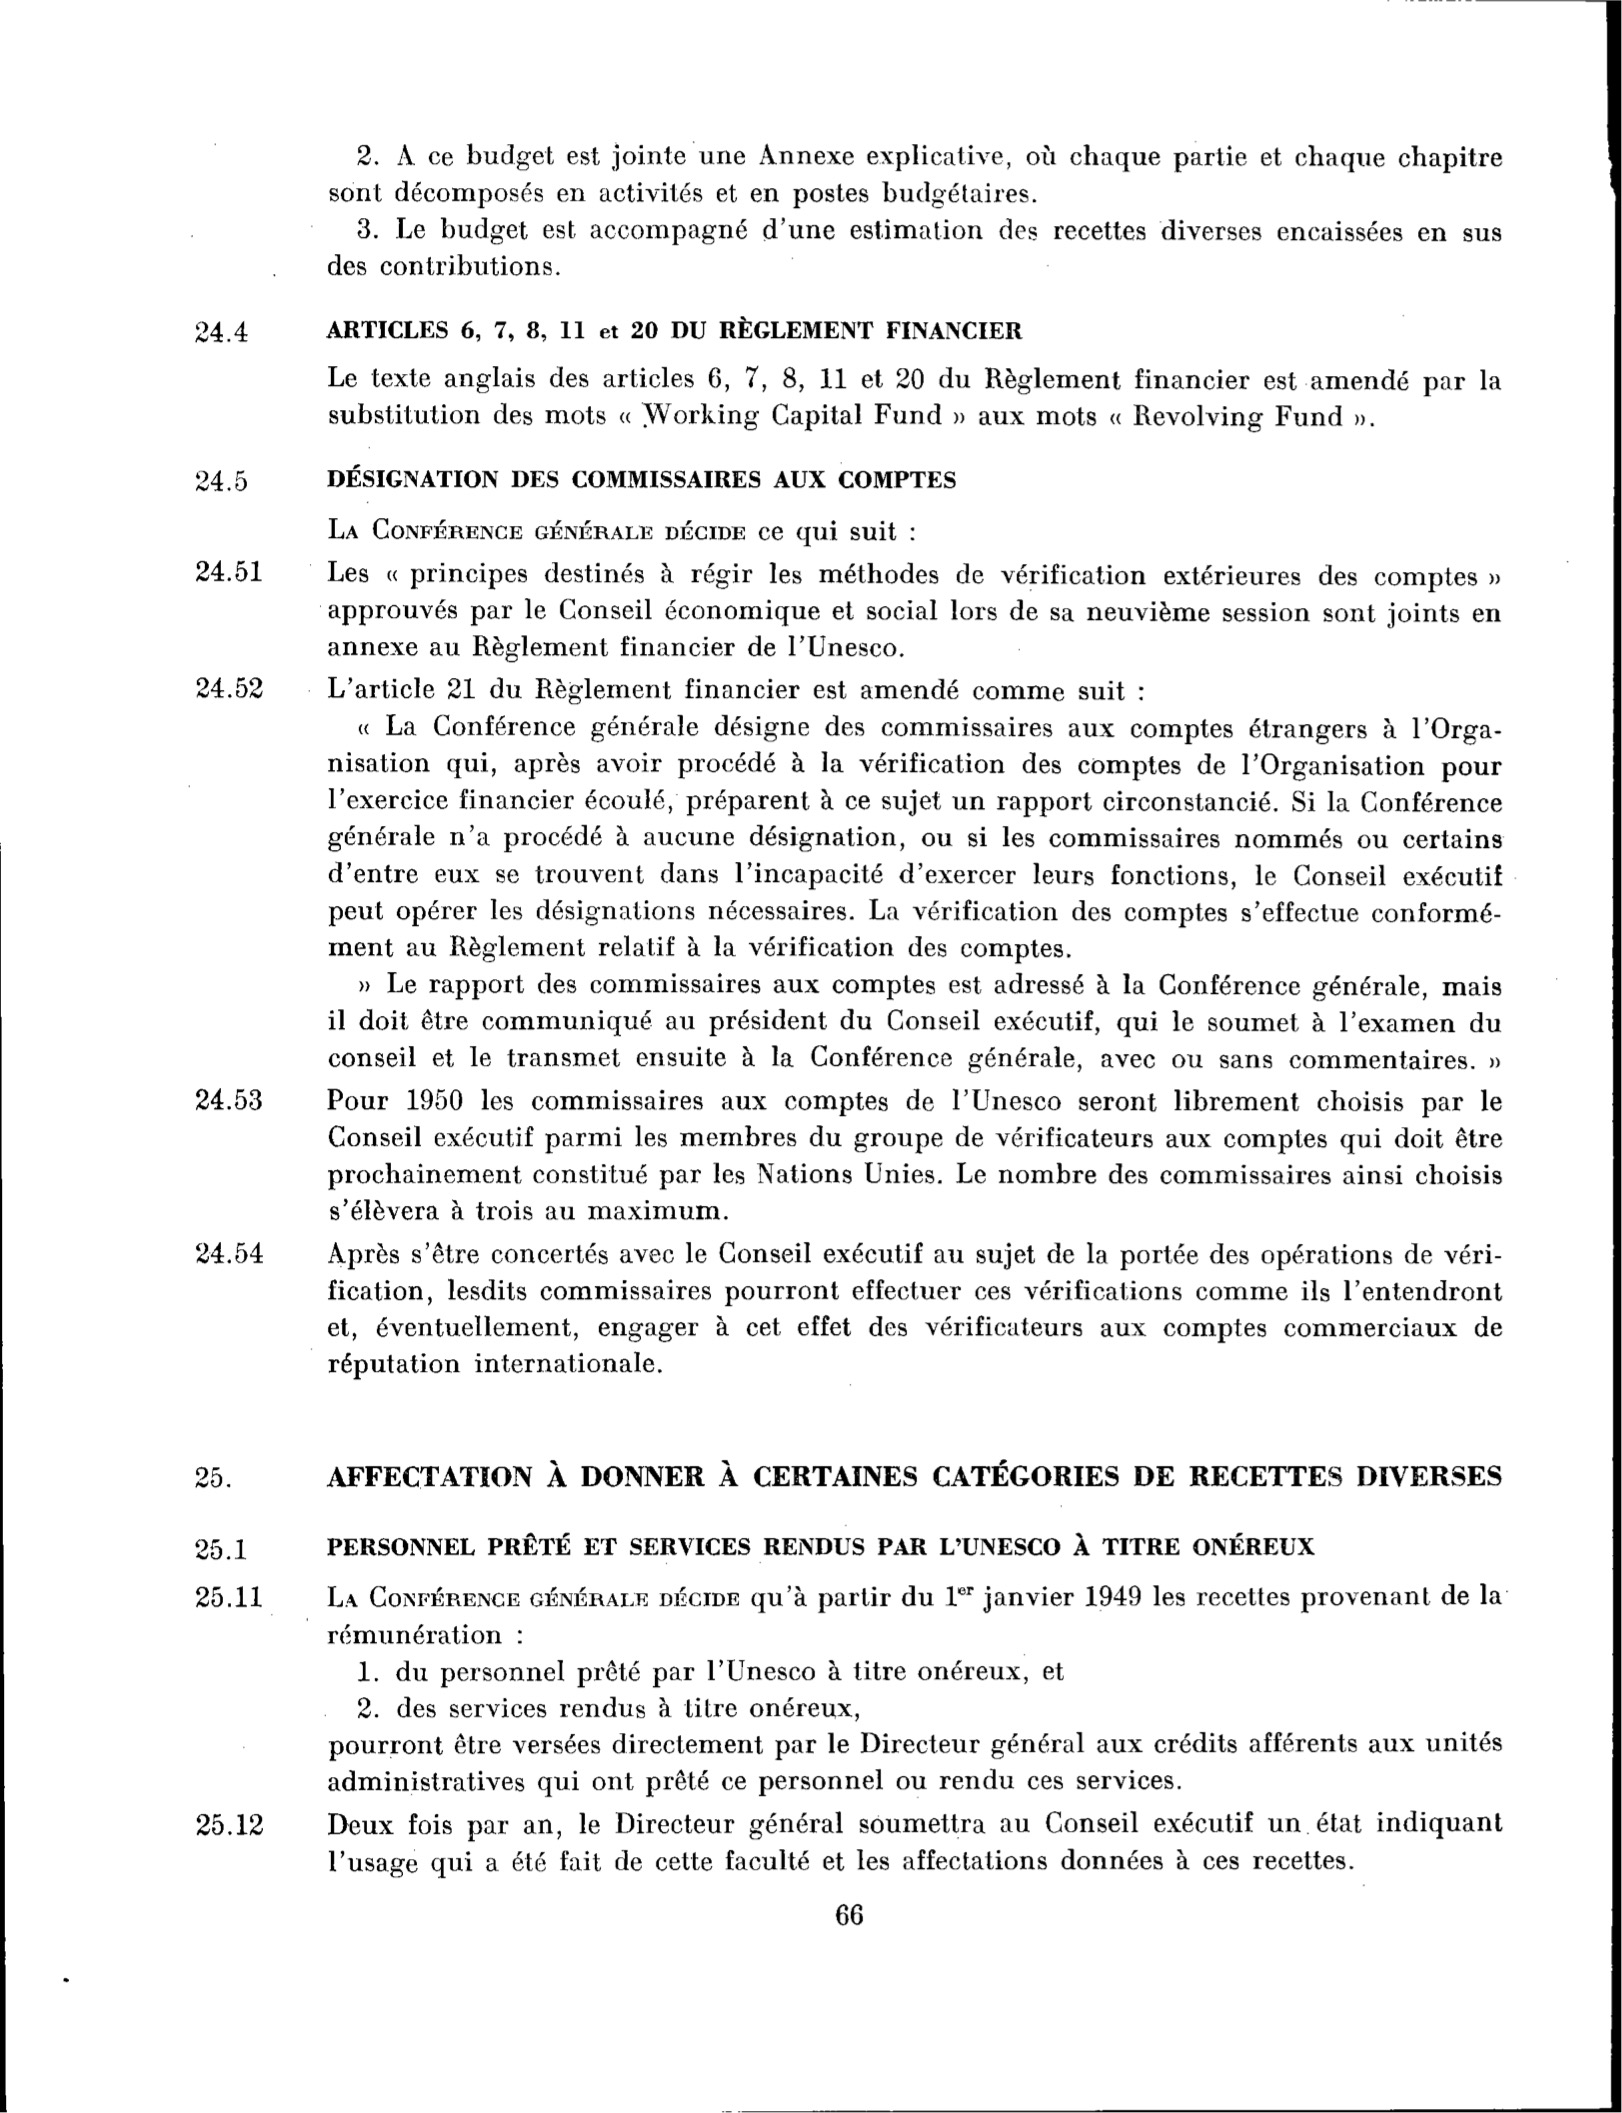MainZone-Head: (319, 1458, 1507, 1502), (316, 1529, 1333, 1575), (310, 311, 1037, 345), (310, 463, 970, 498)
MainZone-ListItem: (320, 1691, 1518, 1805), (312, 126, 1516, 212), (312, 210, 1517, 292), (326, 1651, 1274, 1692)
MainZone-P: (314, 712, 1510, 962), (303, 1233, 1510, 1385), (317, 1079, 1508, 1231), (312, 549, 1509, 664), (316, 968, 1510, 1080), (315, 359, 1506, 439), (323, 1802, 1517, 1880), (309, 1582, 1523, 1652), (313, 665, 1156, 710), (314, 504, 925, 554)
TitlePageZone: (171, 1801, 272, 1858), (172, 1456, 261, 1503), (186, 1231, 281, 1275), (183, 1076, 273, 1120), (172, 559, 294, 591), (189, 1581, 274, 1626), (176, 469, 278, 506), (183, 1540, 272, 1578), (180, 315, 272, 350), (181, 678, 274, 706), (827, 1898, 873, 1938)
